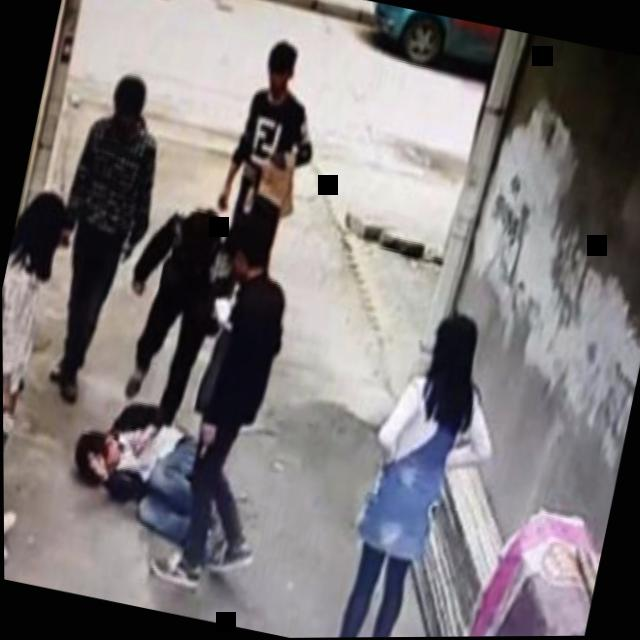Fall-Detected: (45, 377, 277, 584)
